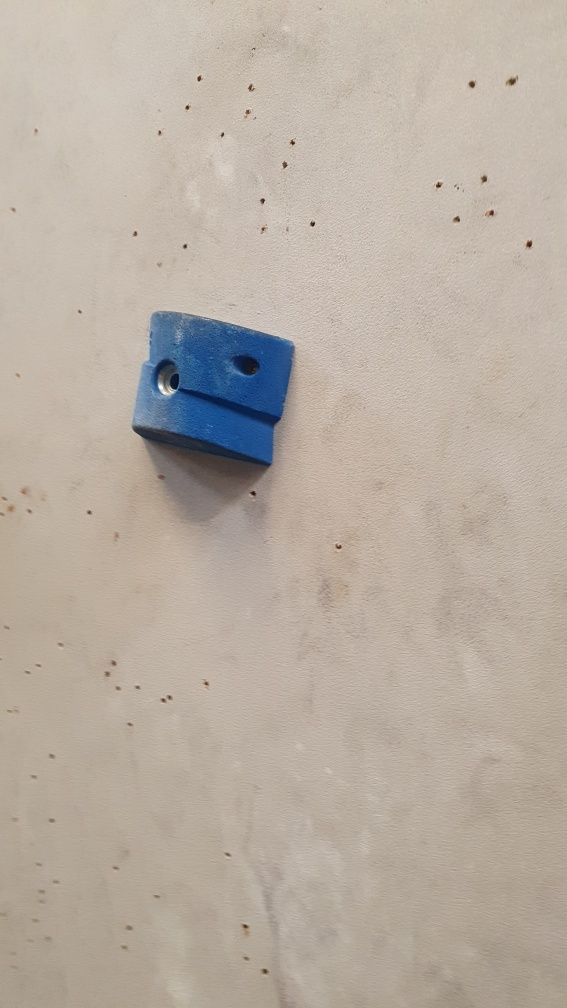Pinch: (133, 305, 298, 474)
